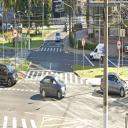NoSeguir: (82, 37, 86, 47)
